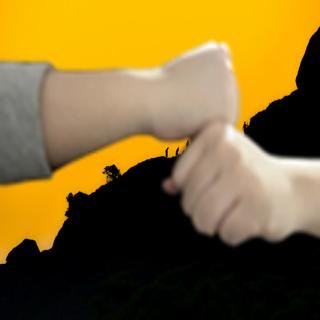CAREFUL: (49, 42, 320, 246)
